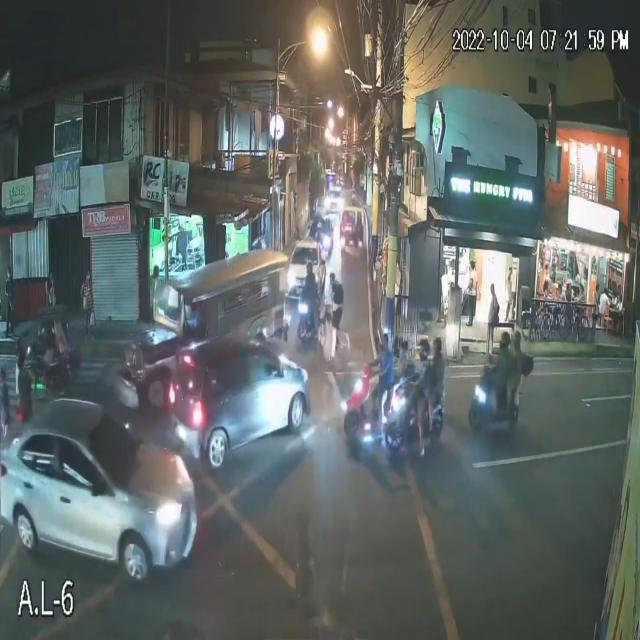Full-Faced: (509, 328, 522, 356), (432, 334, 444, 358), (304, 258, 317, 280), (499, 329, 511, 352), (419, 339, 430, 362)
Not-Wearing-Helmet: (398, 329, 411, 360), (379, 328, 393, 356)
